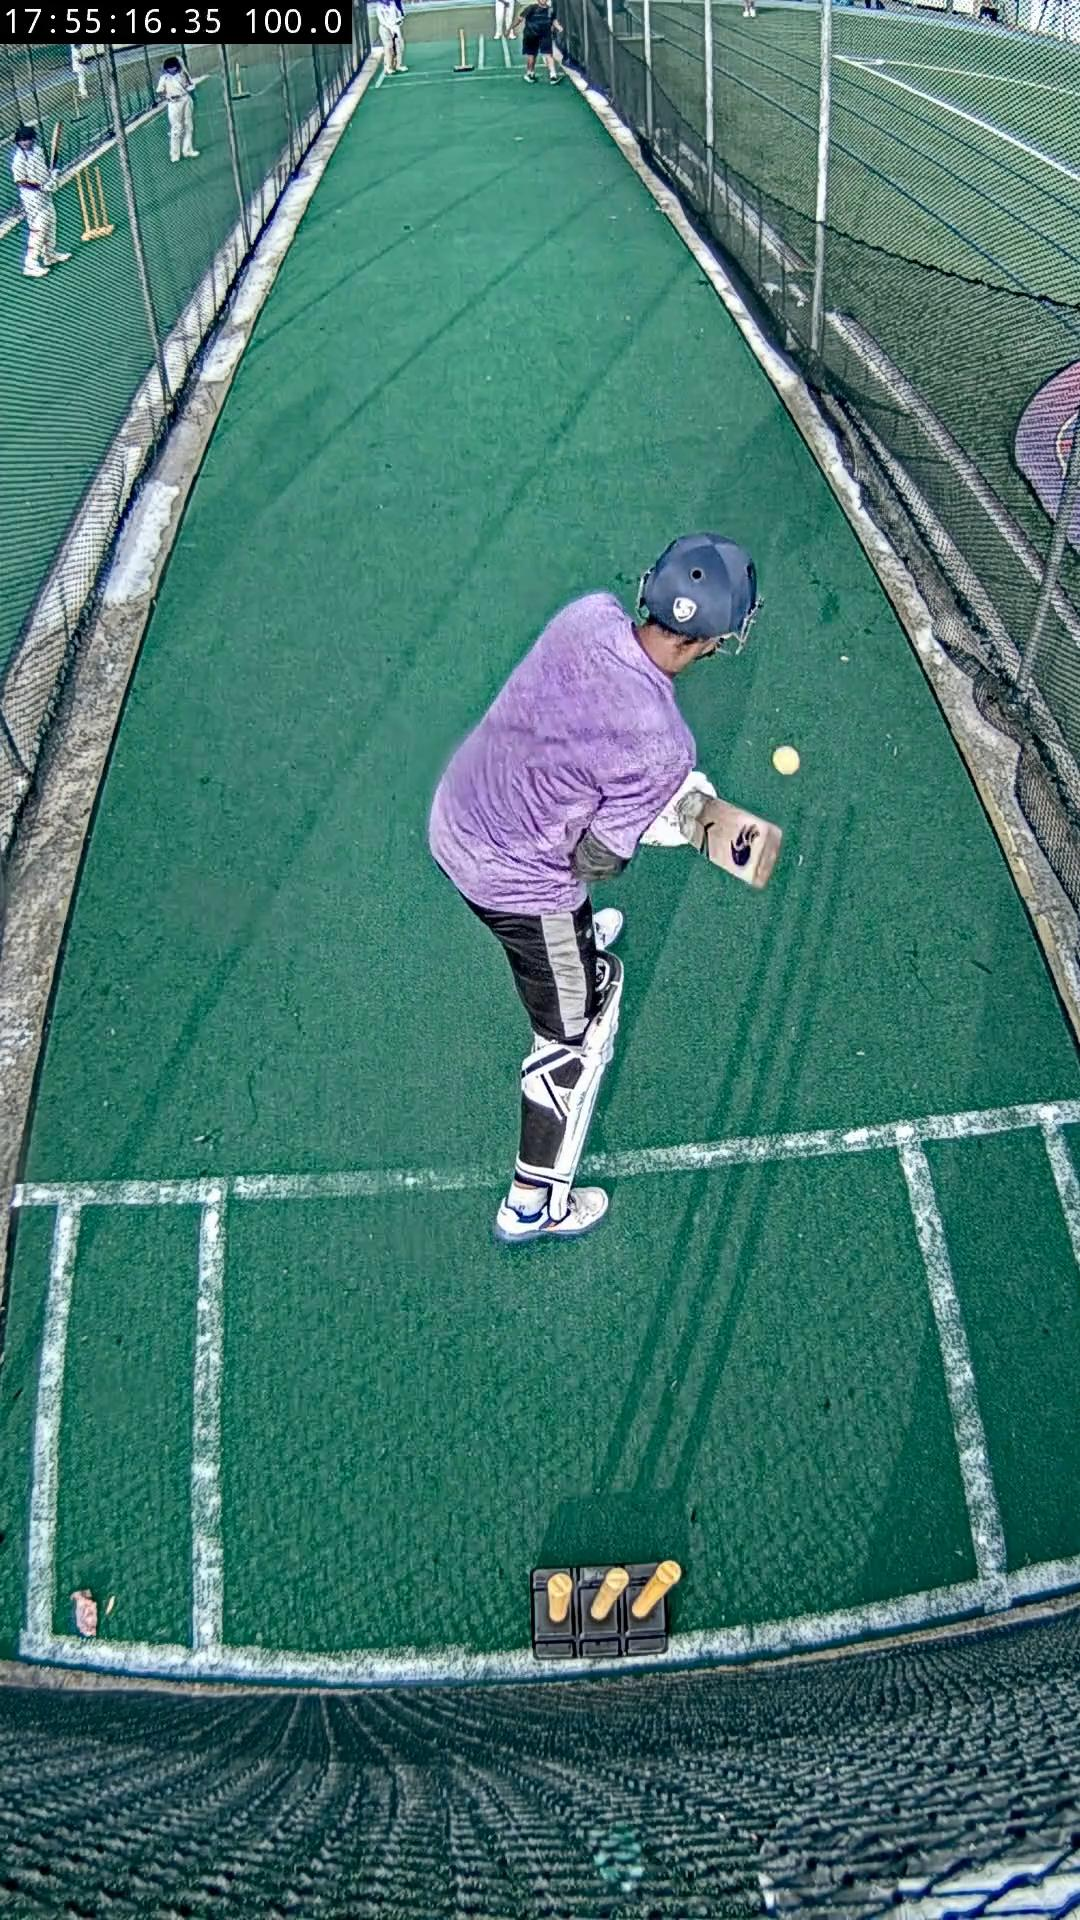ball: (773, 746, 799, 777)
bat: (690, 799, 783, 889)
gloves: (641, 769, 716, 848)
helmet: (637, 533, 757, 645)
pads: (559, 956, 622, 1174)
stumps: (533, 1560, 683, 1662)
